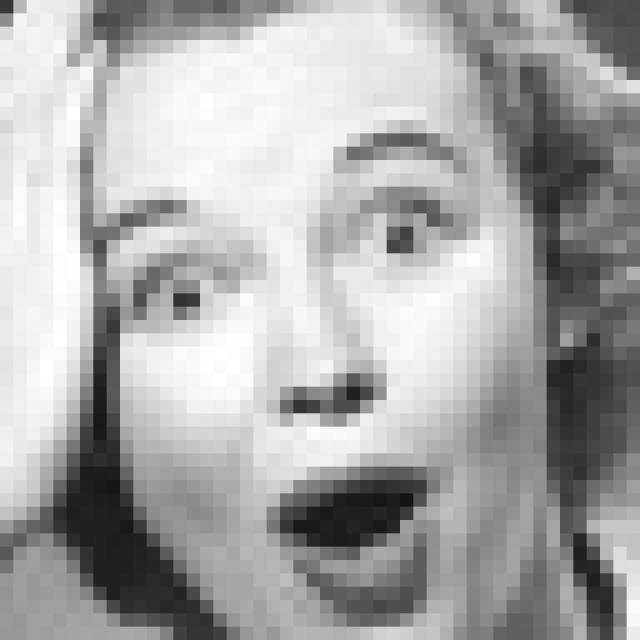surprise: (79, 120, 493, 625)
